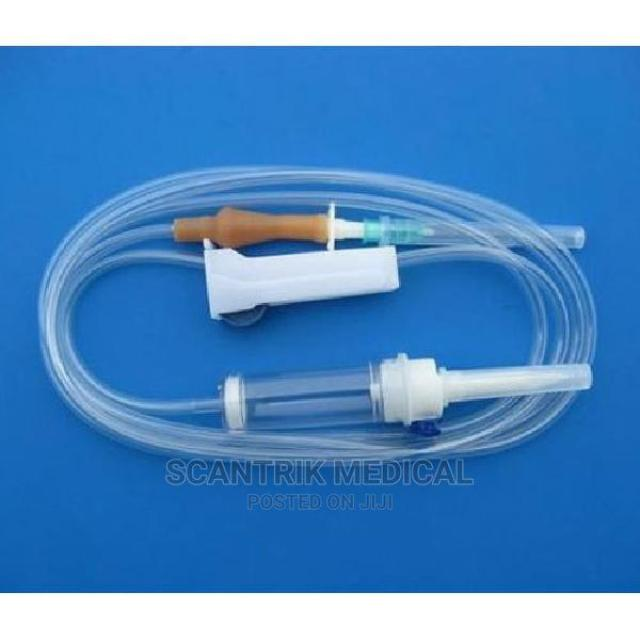B3: (31, 148, 598, 466)
